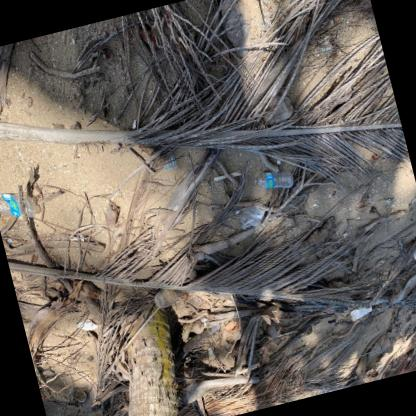Plastic: (0, 192, 36, 217), (252, 170, 292, 188), (238, 207, 257, 228), (251, 206, 265, 225), (214, 171, 240, 181), (206, 321, 219, 333)
Waste: (349, 305, 371, 321), (163, 153, 177, 172), (77, 318, 97, 331), (240, 362, 259, 372)
